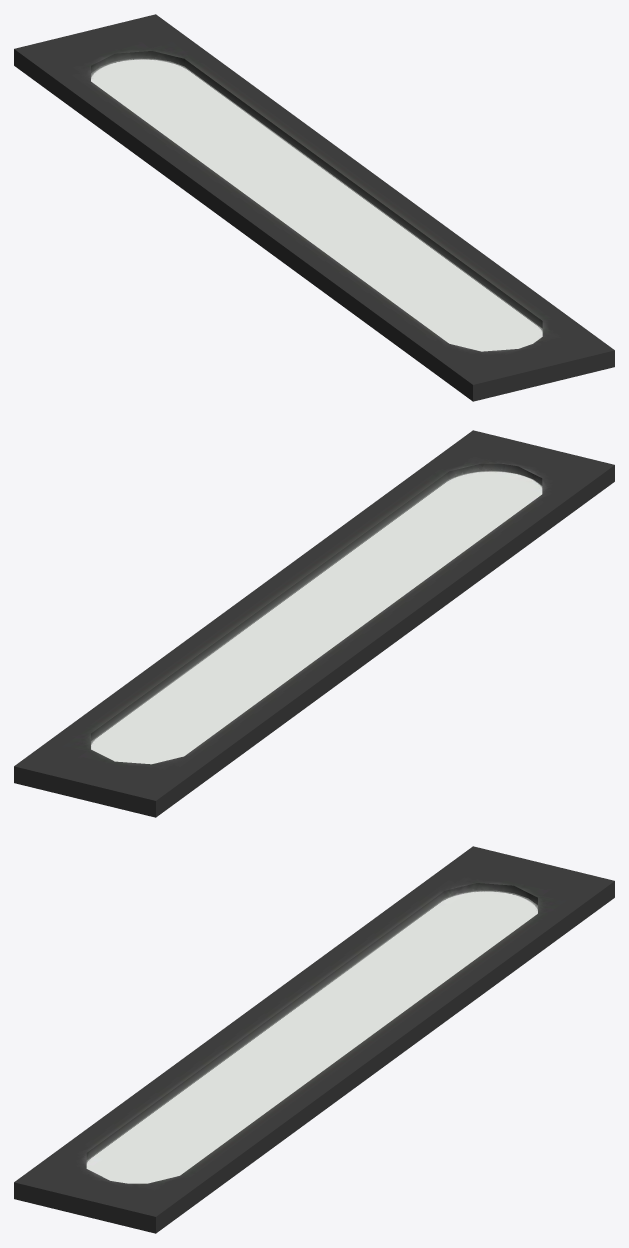
Rendered from light.glb.
3 renders of one model, top to bottom at view 1: azimuth 30°, elevation 25°; view 2: azimuth 150°, elevation 25°; view 3: azimuth 330°, elevation 25°, orthographic.
Parts seen in each view (by area): view 1: light; view 2: light; view 3: light.
Part boxes in pixels (x1=…): light: x1=14, y1=14, x2=614, y2=401; light: x1=14, y1=430, x2=614, y2=817; light: x1=14, y1=846, x2=614, y2=1233.
Bounding box in the file's own units: 0.3568 × 0.0403 × 2.
Materials: 1 (1 with a texture image).
